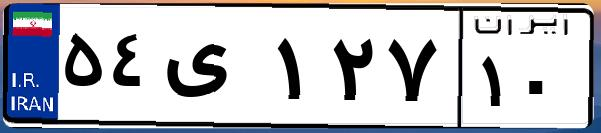0: (525, 38, 570, 115)
1: (270, 28, 330, 110), (475, 38, 525, 113)
2: (330, 28, 385, 110)
4: (110, 28, 158, 98)
5: (57, 26, 110, 100)
7: (385, 28, 445, 110)
ی: (158, 20, 270, 120)
